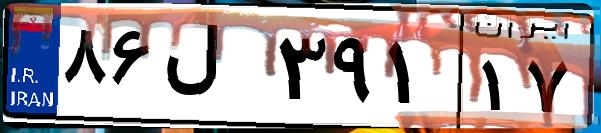1: (385, 28, 445, 110), (475, 38, 525, 113)
3: (270, 28, 330, 110)
6: (110, 28, 158, 98)
7: (525, 38, 570, 115)
8: (57, 26, 110, 100)
9: (330, 28, 385, 110)
ل: (158, 20, 270, 120)
